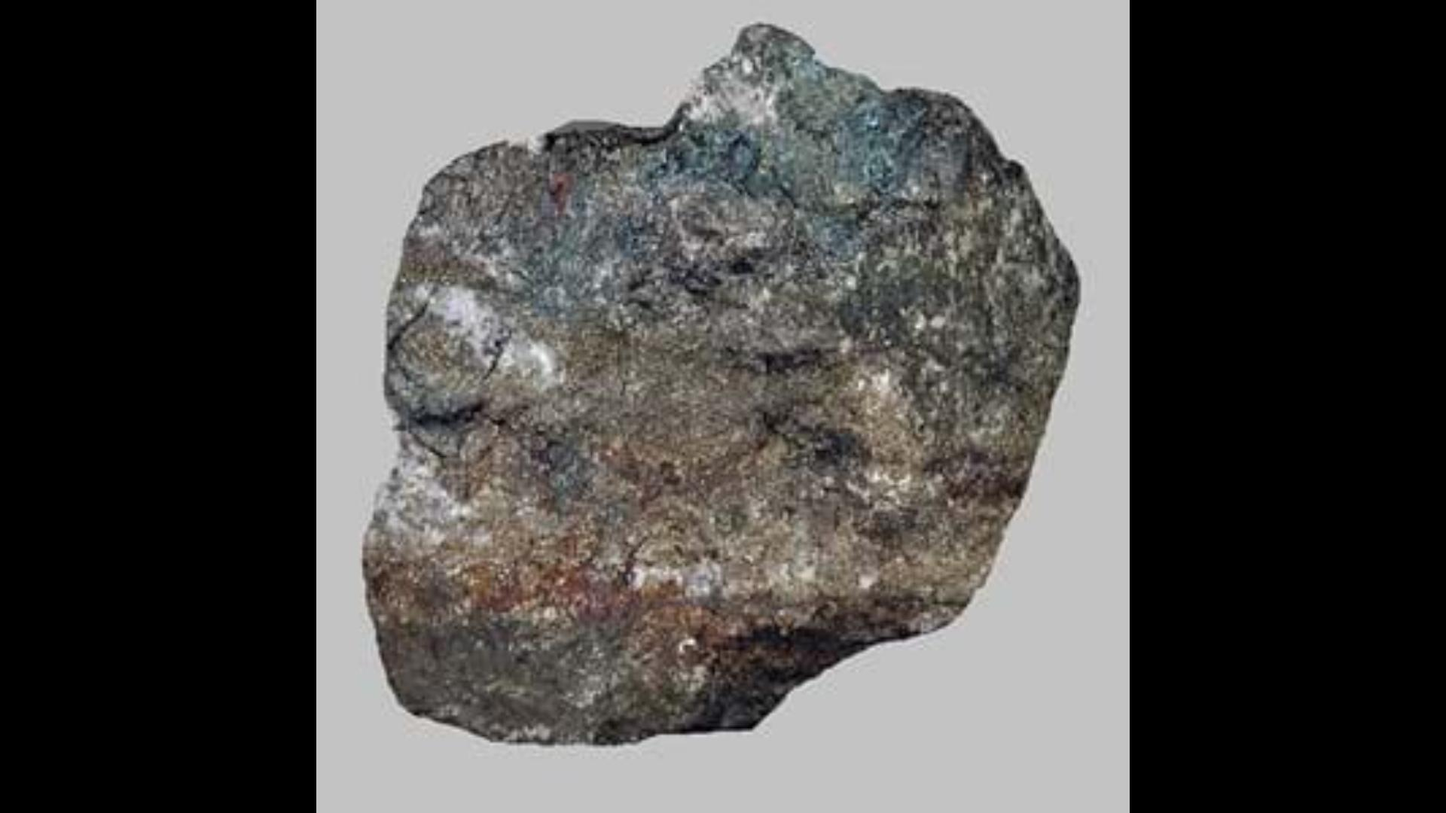rock: (362, 24, 1075, 740)
